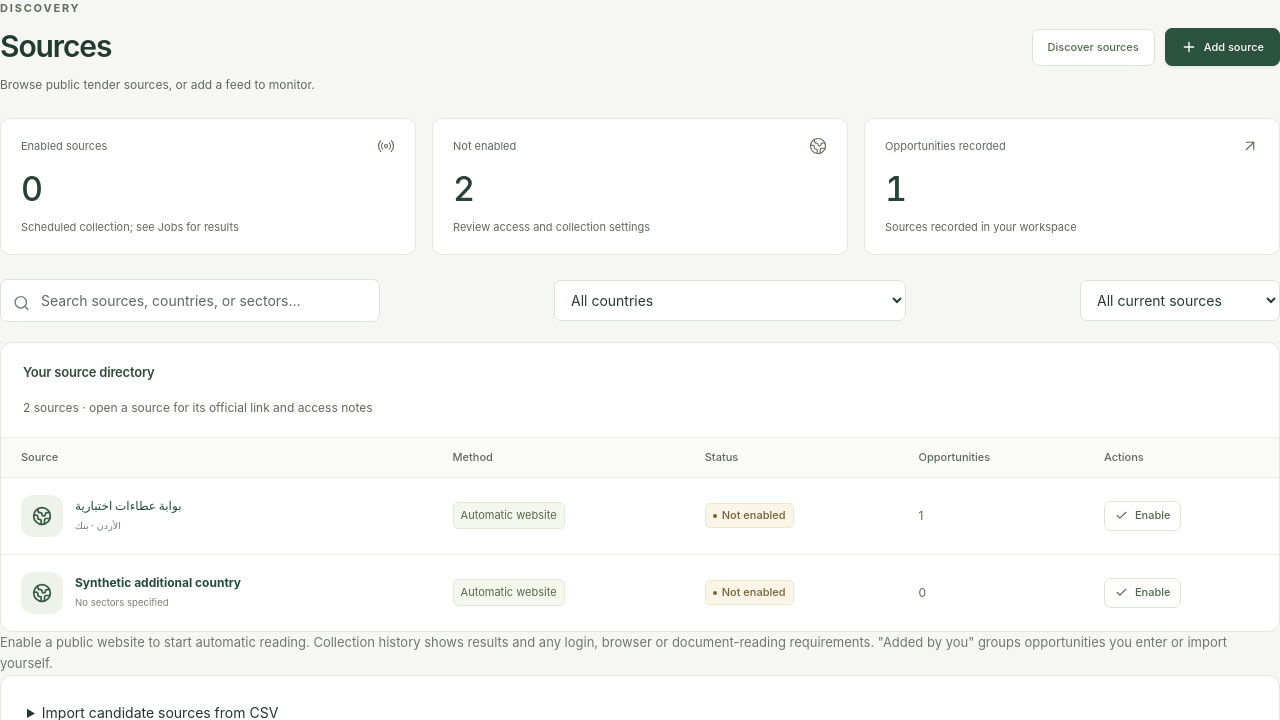
Test: connected screens › shows seeded public URLs with automatic activation and country filtering
Expected: the text "Automatic website" in the row of "بوابة عطاءات اختبارية" is shown, [461,508,557,522]
Expected: the number of buttons "Enable" is 2, [1104,501,1181,531]; [1104,578,1181,608]
Select "AE" in the dropdown named "Filter source country" at x=730, y=301, box [554,280,906,321]
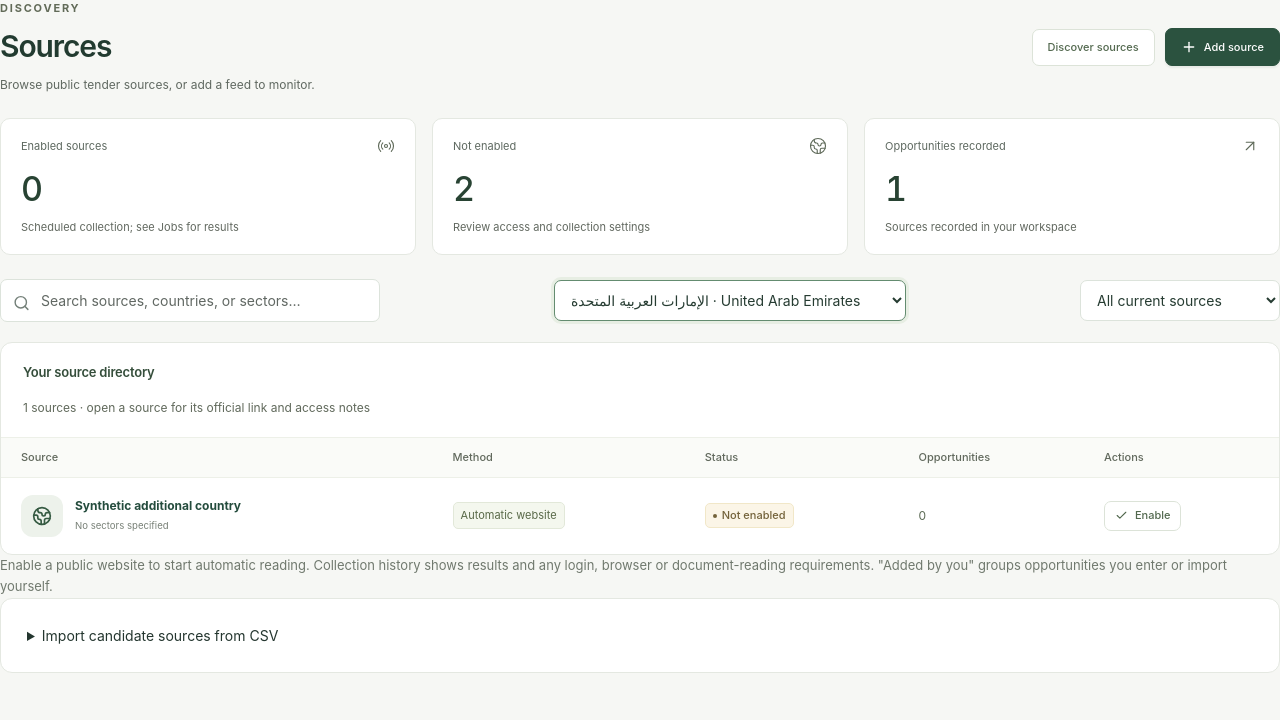
Result: the link "بوابة عطاءات اختبارية" is gone
Select "JO" in the dropdown named "Filter source country" at x=730, y=301, box [554,280,906,321]
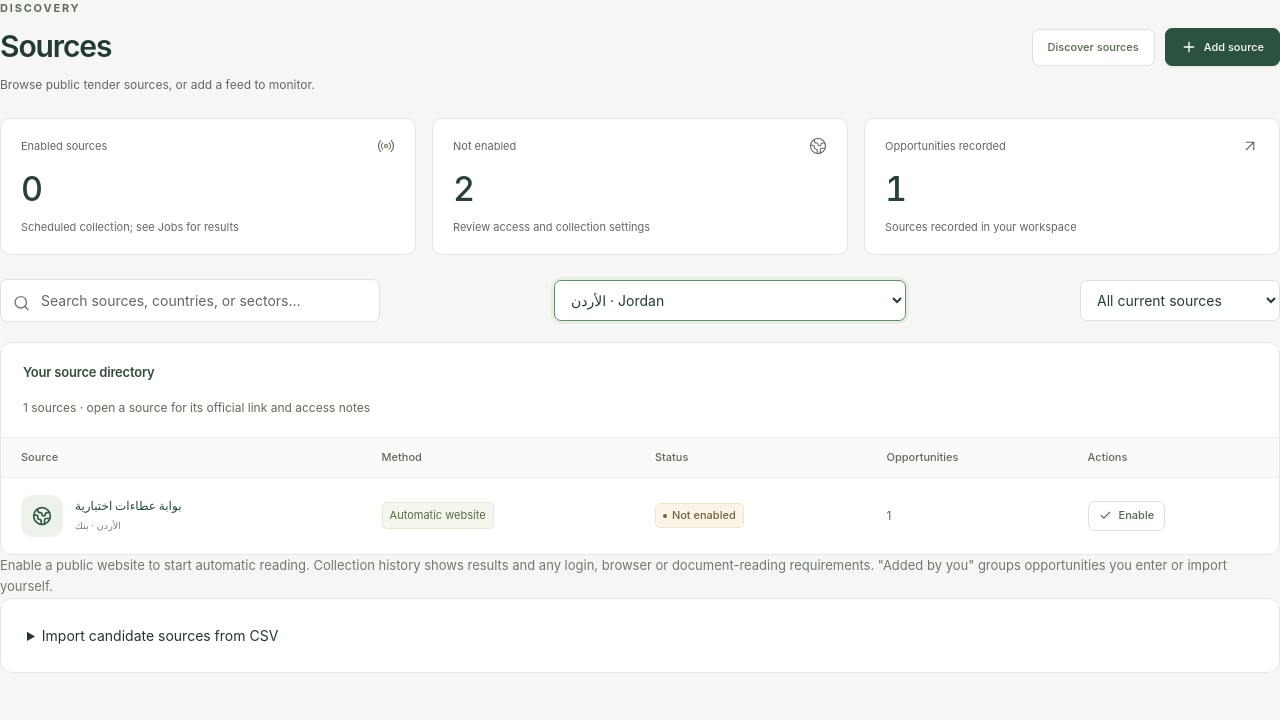
Result: the link "بوابة عطاءات اختبارية" is shown at [75,498,182,513]
